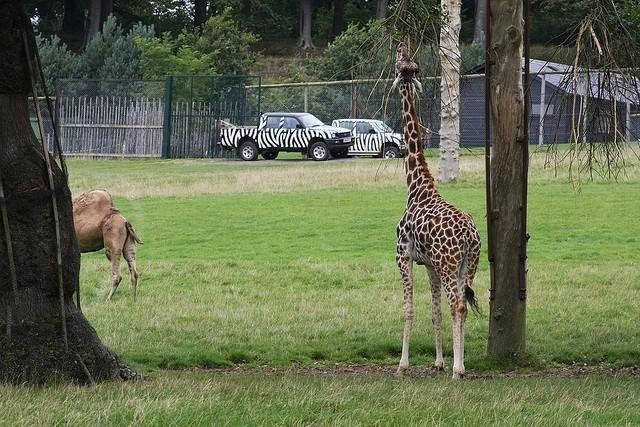truck: (218, 112, 354, 162), (330, 118, 406, 158)
